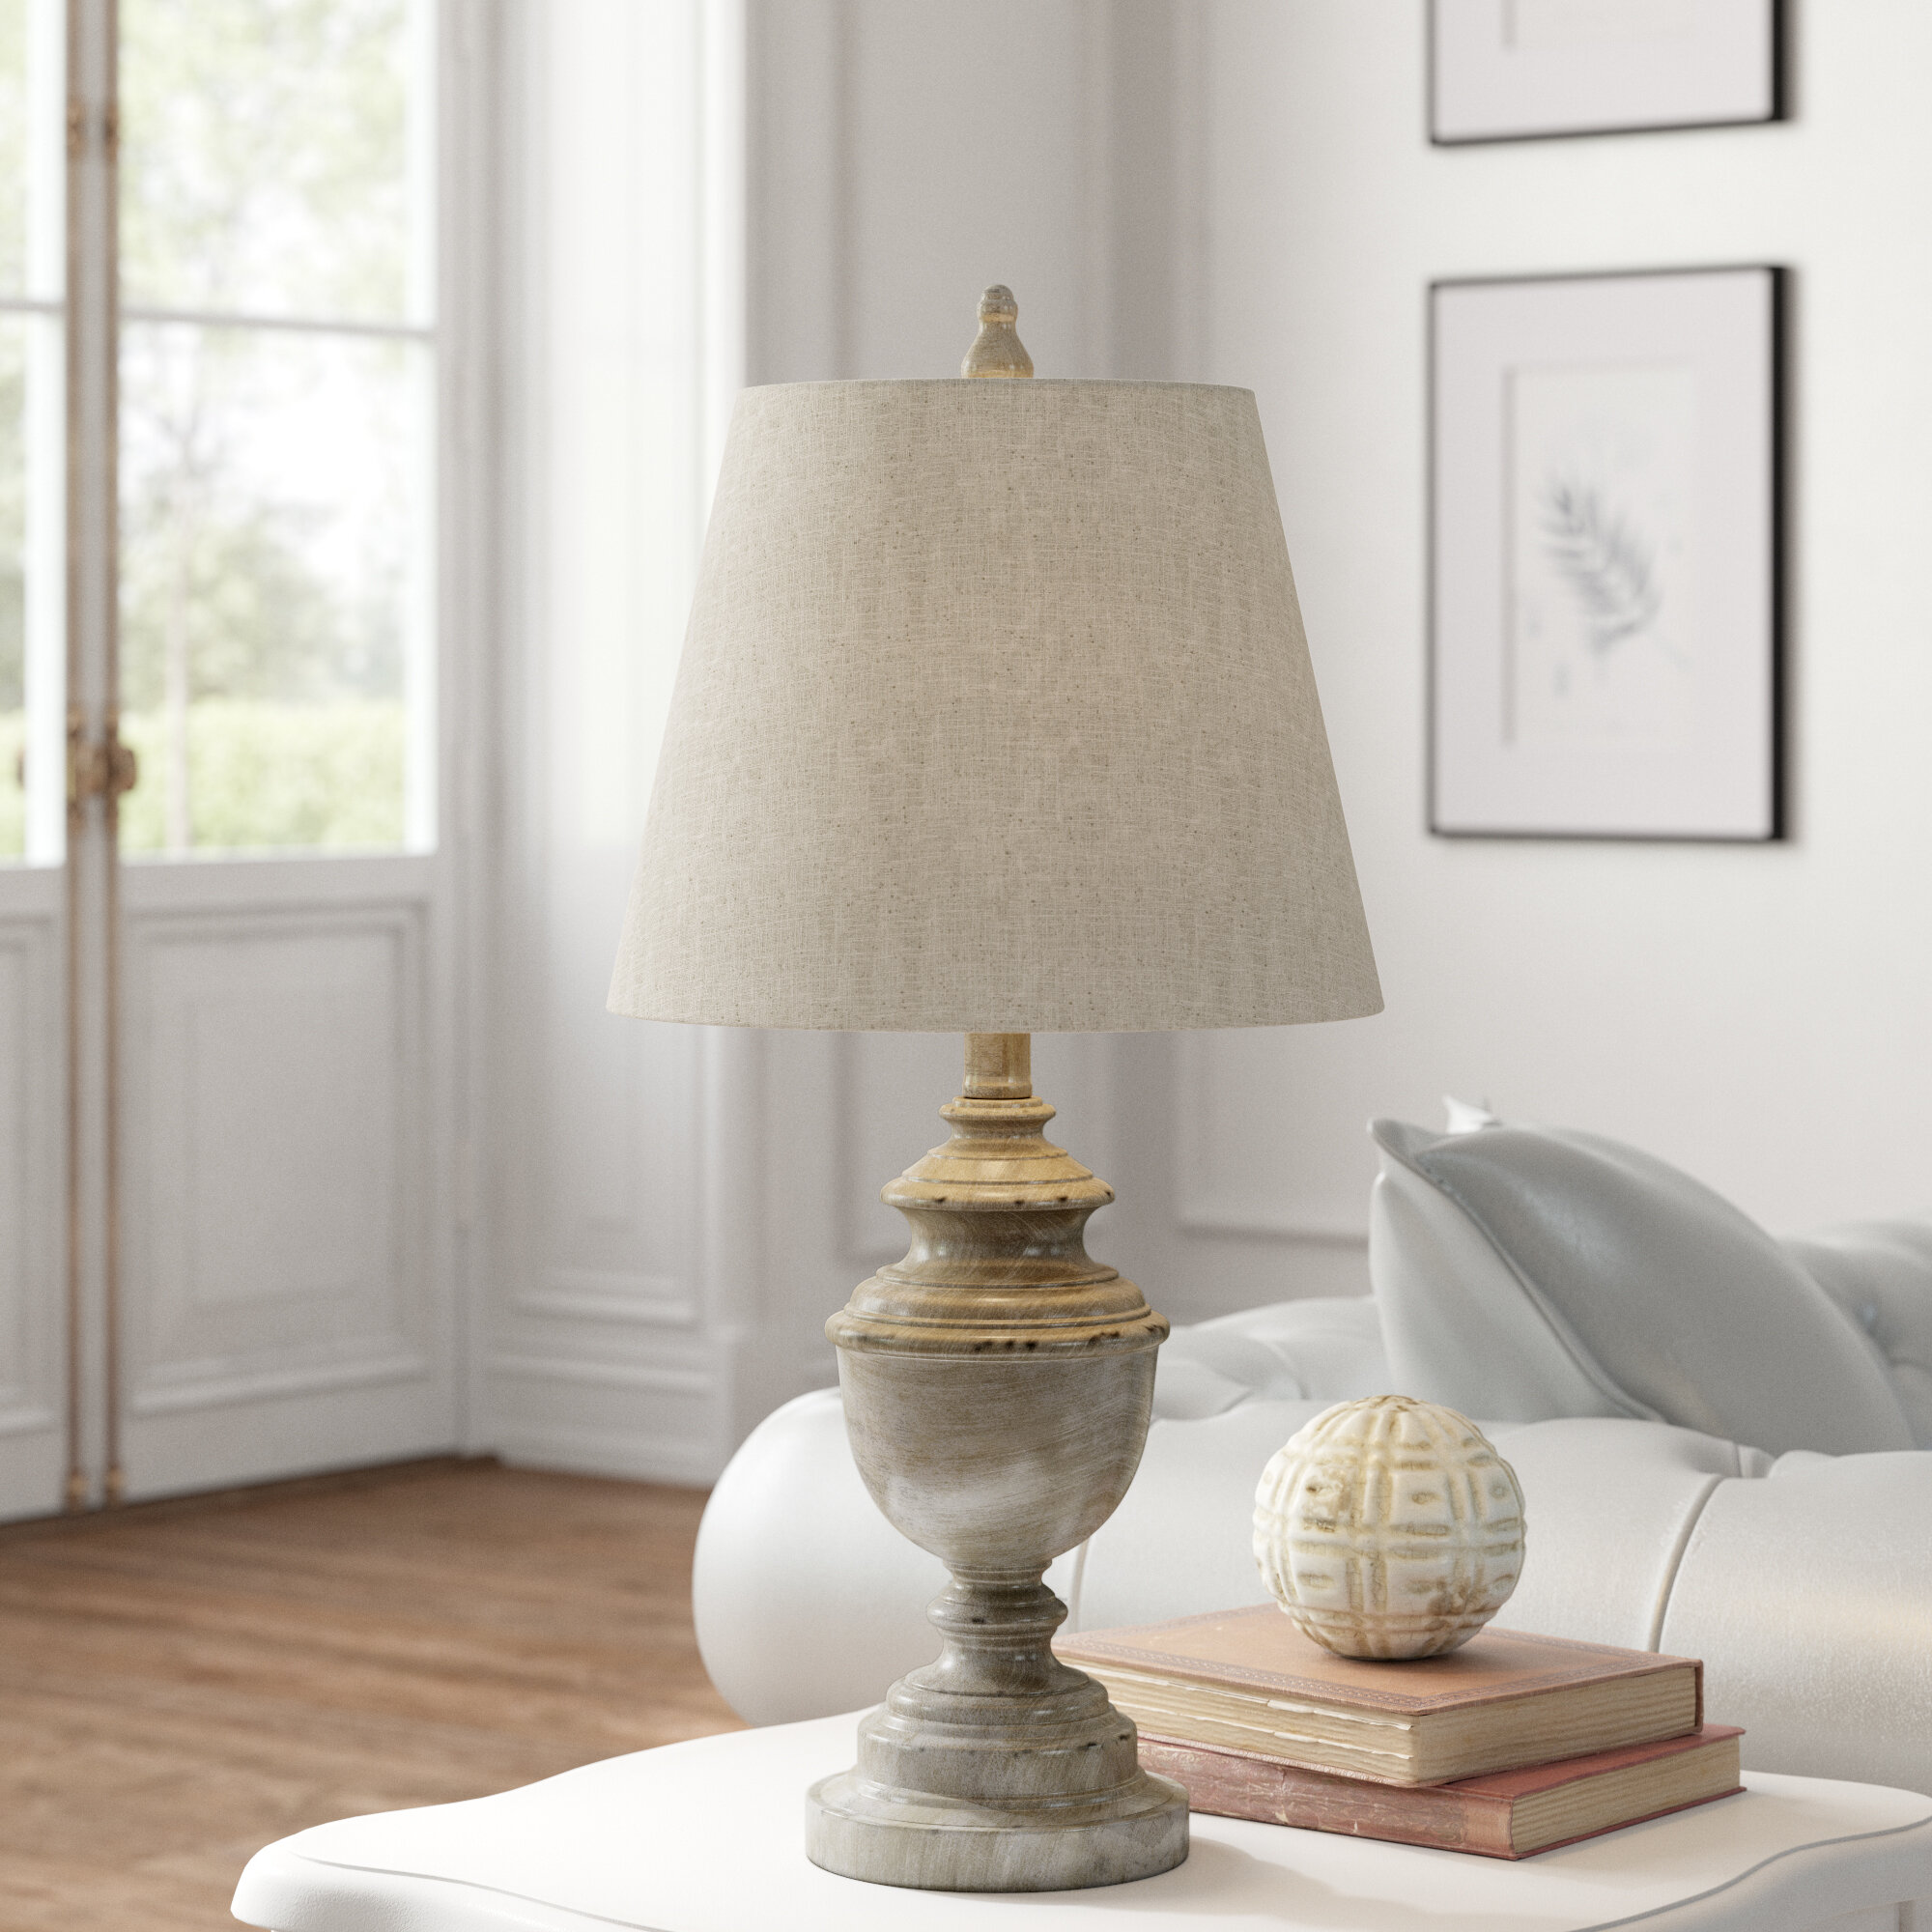buku: (1129, 1606, 1748, 1852)
lampu: (603, 375, 1373, 1897)
lukisan: (1419, 257, 1799, 853)
